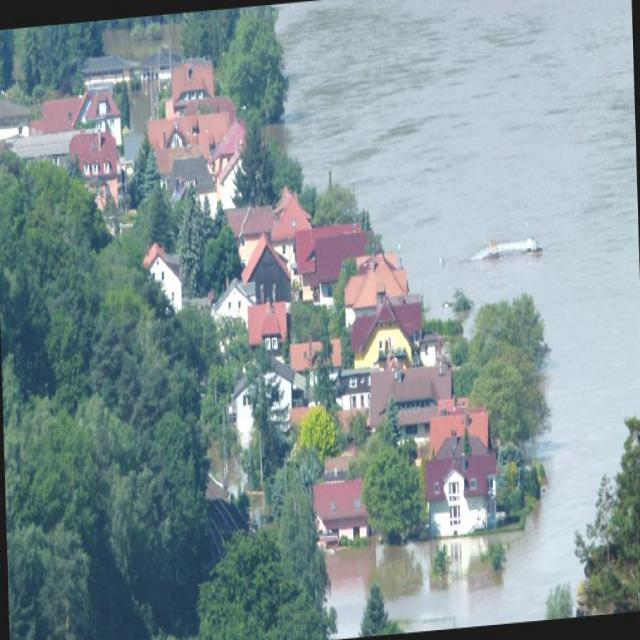flood: (278, 0, 640, 639)
